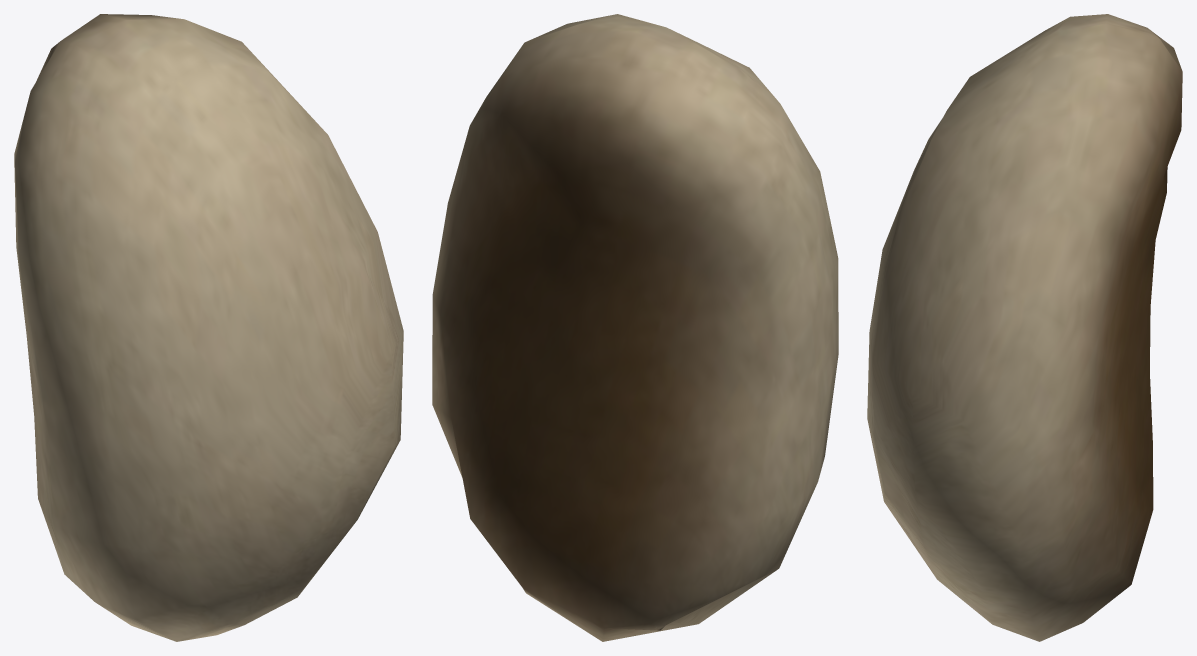
The model's file is Patella.glb.
3 renders of one model, left to right at view 1: azimuth 30°, elevation 25°; view 2: azimuth 150°, elevation 25°; view 3: azimuth 270°, elevation 25°, orthographic. The views are drawn at different scales.
Visible parts, largest first — view 1: Patella_Right1:Group59494; view 2: Patella_Right1:Group59494; view 3: Patella_Right1:Group59494.
Boxes of the visible parts, <box> form: Patella_Right1:Group59494: <box>14,14,403,641</box>; Patella_Right1:Group59494: <box>432,14,838,641</box>; Patella_Right1:Group59494: <box>867,14,1182,641</box>.
Size of the model in its own units: 10.29 by 16.87 by 8.3.
Materials: 1 (1 with a texture image).
